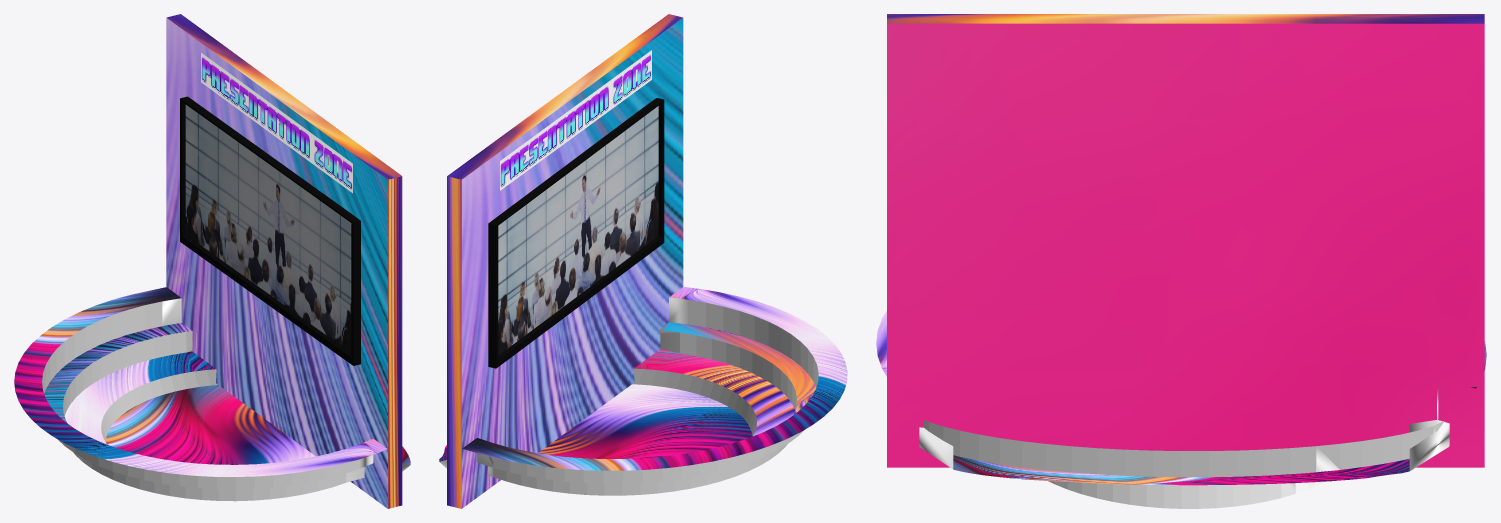
File: prasantion.glb
The picture shows the model from 3 angles, left to right: view 1: azimuth 30°, elevation 25°; view 2: azimuth 150°, elevation 25°; view 3: azimuth 270°, elevation 25°; orthographic projection. The views are drawn at different scales.
Parts seen in each view (by area): view 1: Cube.007, presentation stage, presentation_wall_01, preseatation video screen border, Plane; view 2: Cube.007, presentation stage, presentation_wall_01, preseatation video screen border, Plane; view 3: Cube.007, presentation stage.
Boxes of the visible parts, x1,y1,x2,y2 form: Cube.007: [166, 14, 402, 508]; presentation stage: [14, 287, 410, 501]; presentation_wall_01: [185, 105, 351, 352]; preseatation video screen border: [180, 96, 360, 365]; Plane: [201, 52, 352, 193]; Cube.007: [447, 14, 683, 508]; presentation stage: [439, 287, 847, 495]; presentation_wall_01: [498, 106, 658, 355]; preseatation video screen border: [488, 98, 664, 368]; Plane: [500, 50, 651, 190]; Cube.007: [887, 14, 1484, 467]; presentation stage: [876, 310, 1486, 508].
Bounding box in the file's own units: 12.32 × 12.51 × 15.49.
5 materials, 3 textured.
